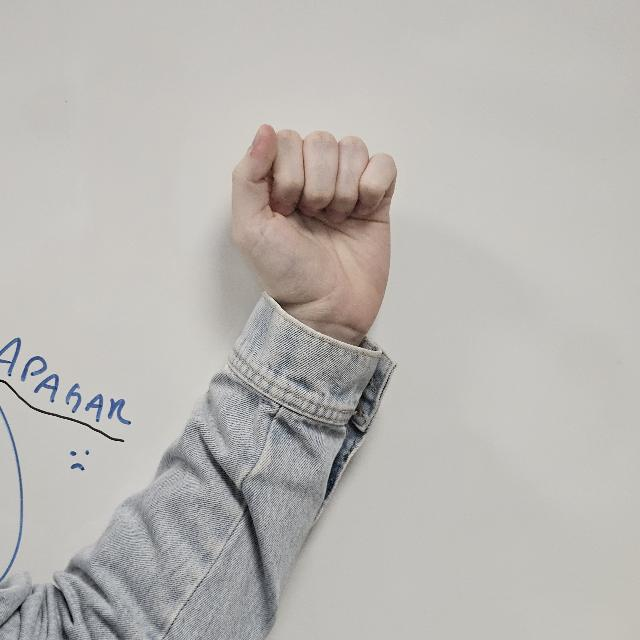Quadro: (229, 120, 397, 338)
